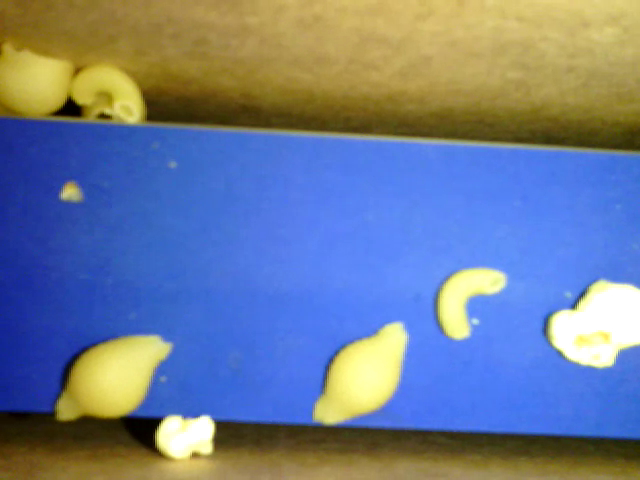elbow: (437, 267, 505, 340), (68, 64, 142, 121)
shell: (56, 335, 172, 420), (313, 321, 406, 424), (1, 42, 74, 115), (82, 93, 146, 123)
